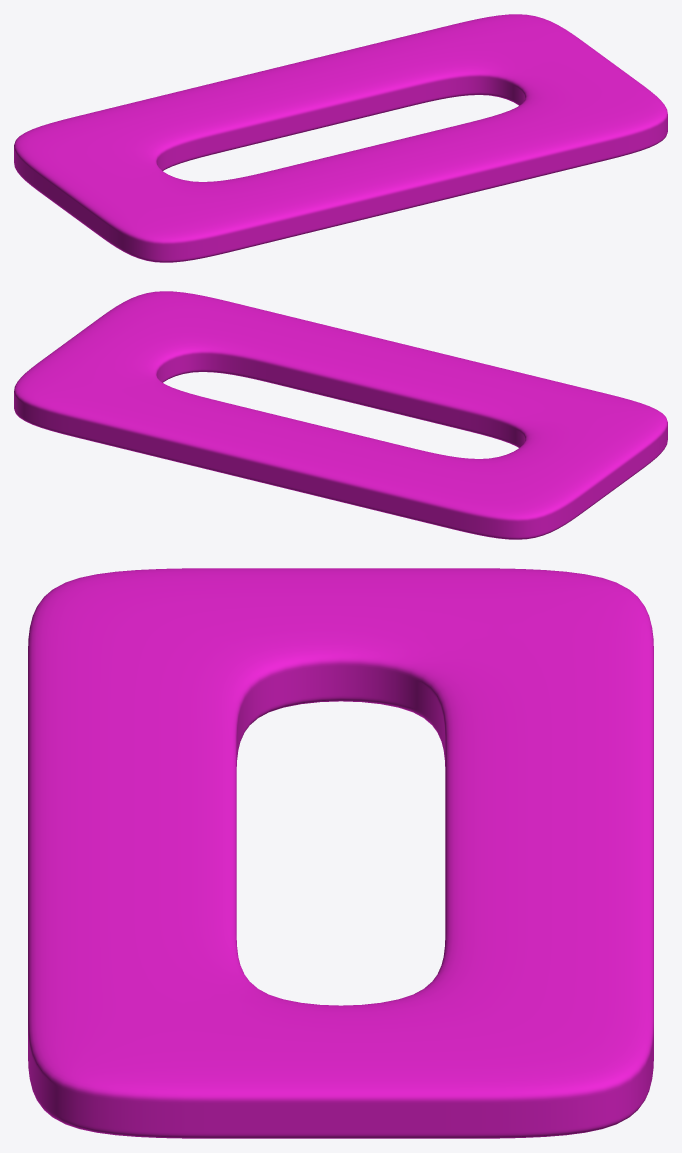
The model's file is Window_1.fbx.
3 renders of one model, top to bottom at view 1: azimuth 30°, elevation 25°; view 2: azimuth 150°, elevation 25°; view 3: azimuth 270°, elevation 25°, orthographic. The views are drawn at different scales.
Parts seen in each view (by area): view 1: AARF.001; view 2: AARF.001; view 3: AARF.001.
Part boxes in pixels (x1,y1,x2,y2): AARF.001: (14,14,667,262); AARF.001: (14,291,667,539); AARF.001: (28,568,653,1138).
Bounding box in the file's own units: 37.5 × 2 × 18.75.
